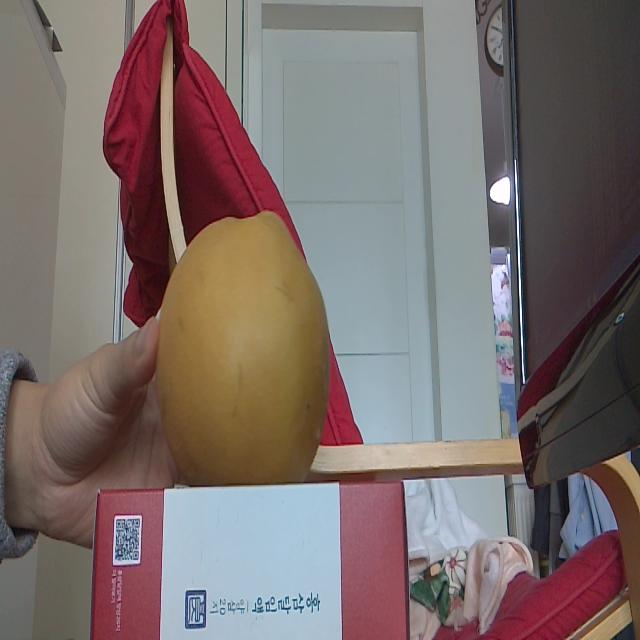pear: (154, 207, 330, 482)
